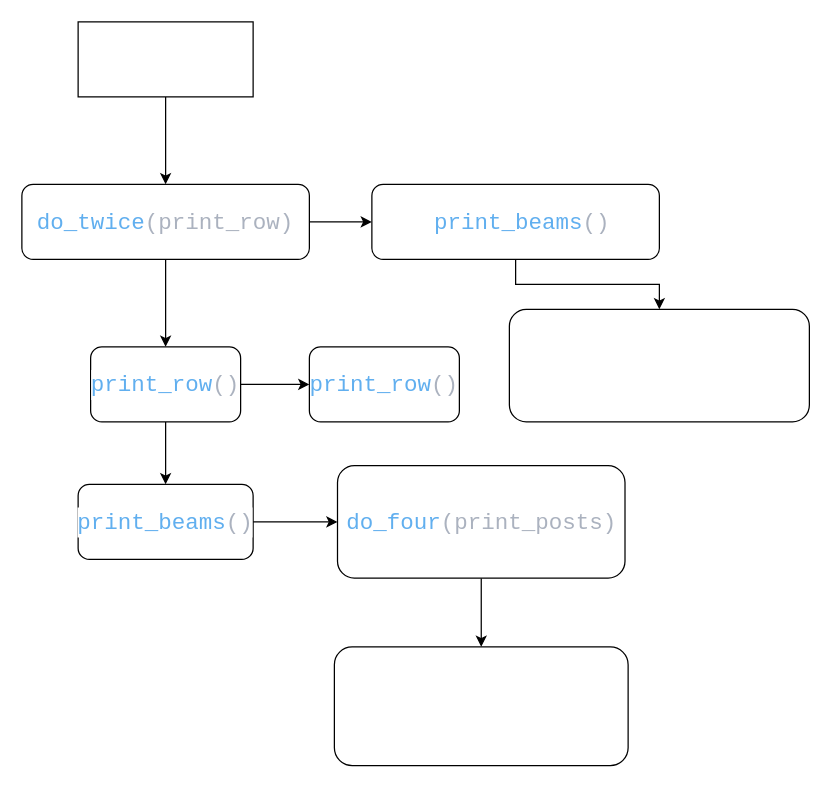
Image size: 831x788. Some labels were removed from this diagram. Here are the shapes that lost their labels. From the top down, the centre of each, then its label:
At pixel 165 59: "print_grid ()".
At pixel 658 365: "do_twice (print_beam)".
At pixel 480 706: "do_twice (print_post)".
